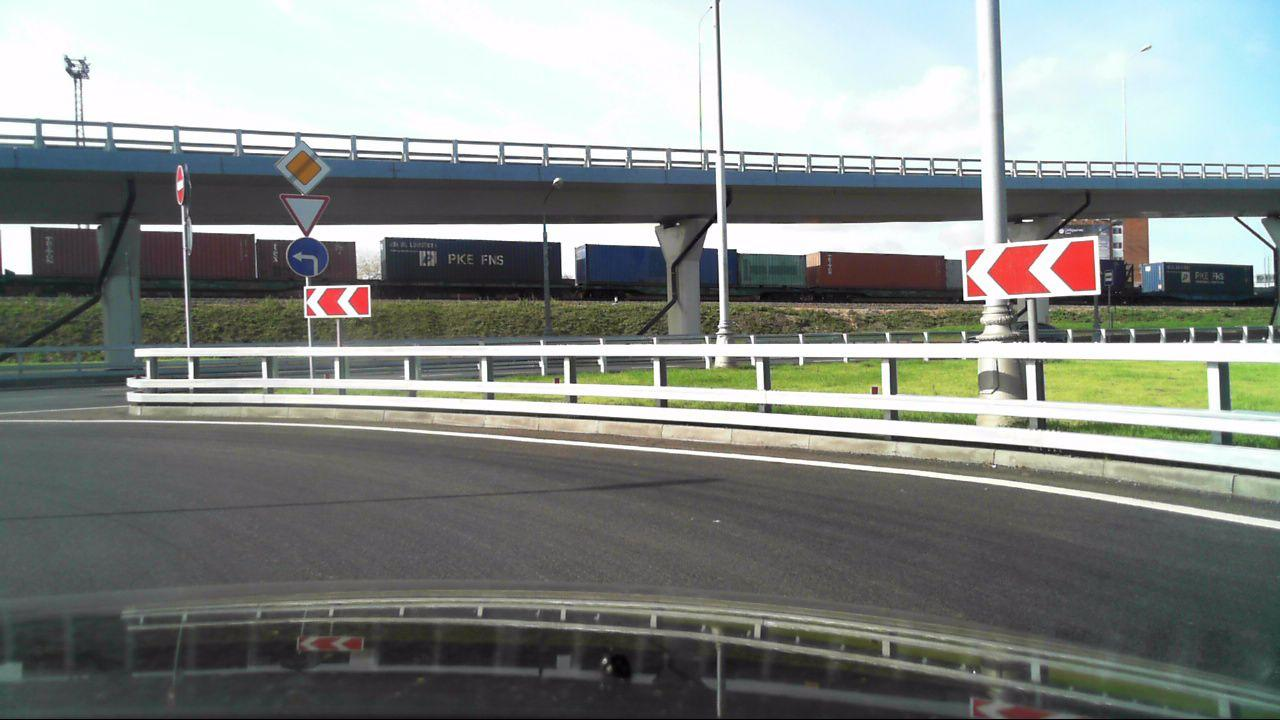1_34_2: (959, 237, 1101, 299), (302, 285, 374, 320)
2_2: (280, 137, 328, 192)
2_4: (278, 190, 327, 237)
3_1: (173, 160, 187, 205)
4_1_3: (287, 237, 328, 280)
